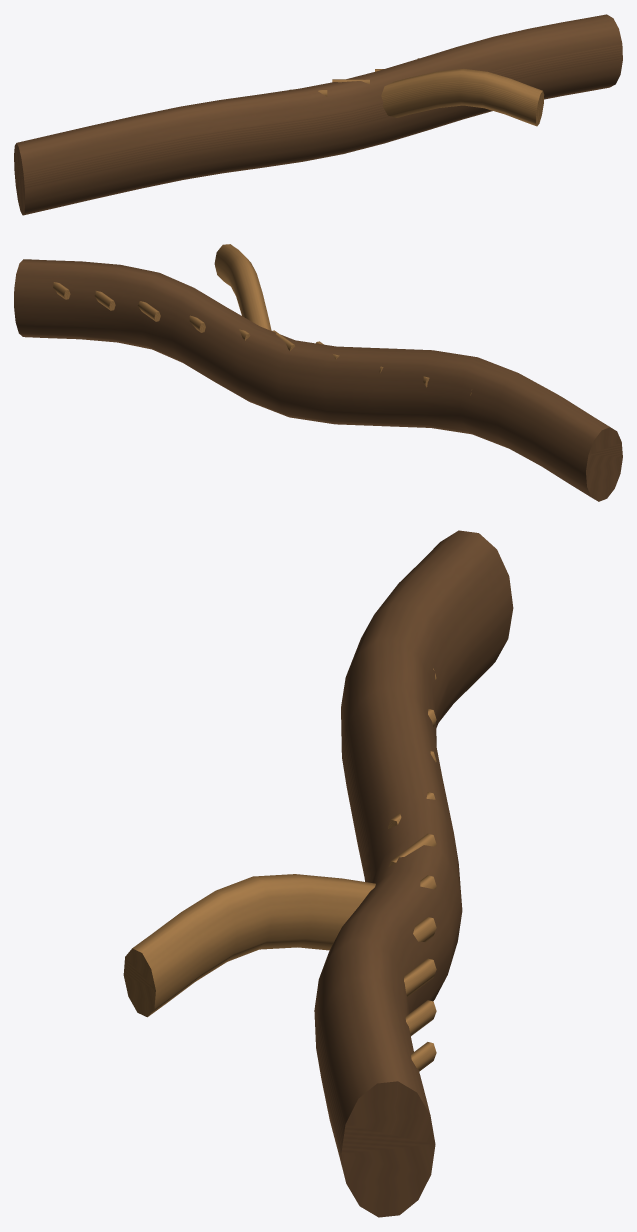
File: DebrisStick.gltf
The picture shows the model from 3 angles, top to bottom: view 1: azimuth 30°, elevation 25°; view 2: azimuth 150°, elevation 25°; view 3: azimuth 270°, elevation 25°; orthographic projection. The views are drawn at different scales.
Parts seen in each view (by area): view 1: DebrisStick__Body; view 2: DebrisStick__Body; view 3: DebrisStick__Body.
Boxes of the visible parts, box(x1,y1,x2,y2) form: DebrisStick__Body: box(14, 14, 622, 215); DebrisStick__Body: box(14, 244, 622, 501); DebrisStick__Body: box(123, 530, 513, 1217).
Size of the model in its own units: 0.672 by 0.1008 by 0.196.
1 material, 1 textured.
